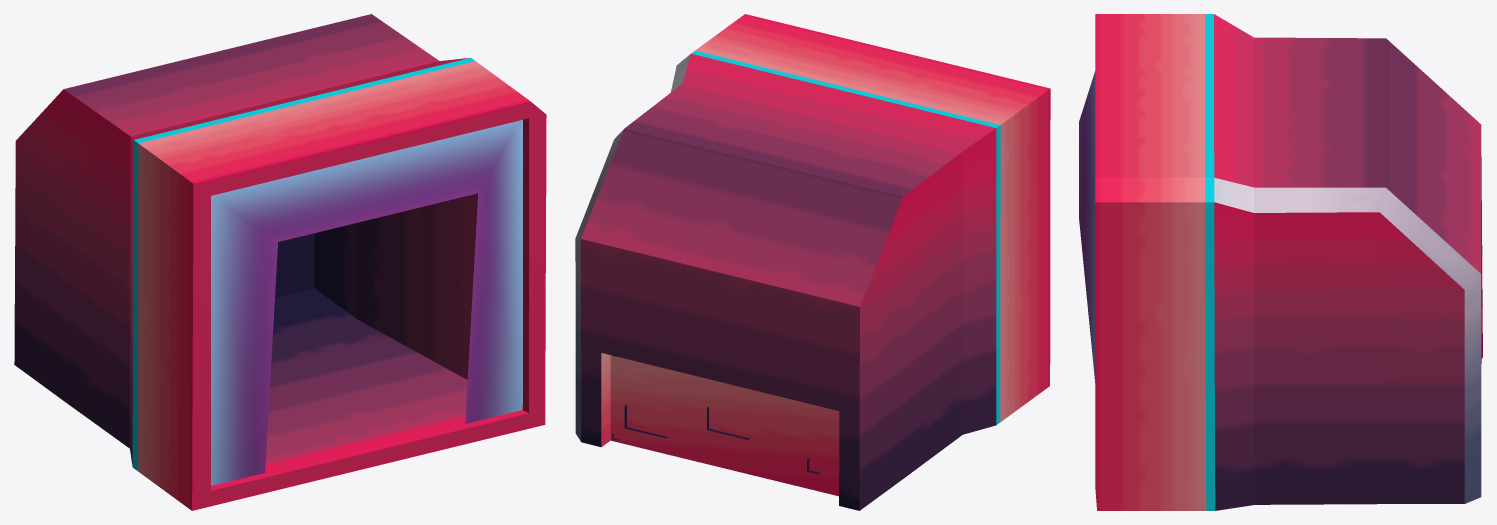
File: Structure_Retro_ComputerScreen_Open_Art.fbx
3 renders of one model, left to right at view 1: azimuth 30°, elevation 25°; view 2: azimuth 150°, elevation 25°; view 3: azimuth 270°, elevation 25°, orthographic. The views are drawn at different scales.
Visible parts, largest first — view 1: Structure_Retro_ComputerScreen_Open_Art; view 2: Structure_Retro_ComputerScreen_Open_Art; view 3: Structure_Retro_ComputerScreen_Open_Art.
Part boxes in pixels (x1=…): Structure_Retro_ComputerScreen_Open_Art: x1=14, y1=14, x2=546, y2=510; Structure_Retro_ComputerScreen_Open_Art: x1=575, y1=14, x2=1050, y2=510; Structure_Retro_ComputerScreen_Open_Art: x1=1079, y1=14, x2=1482, y2=510.
Bounding box in the file's own units: 2.8 × 2.48 × 2.79.
